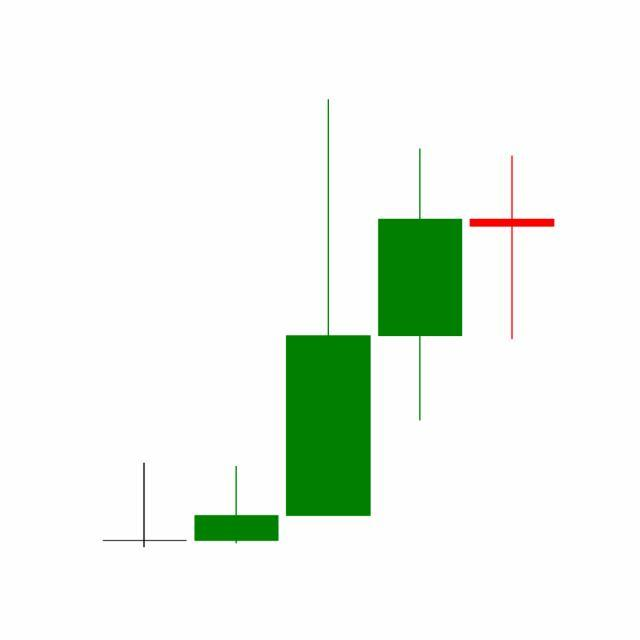Spinning Top: (466, 153, 559, 342)
